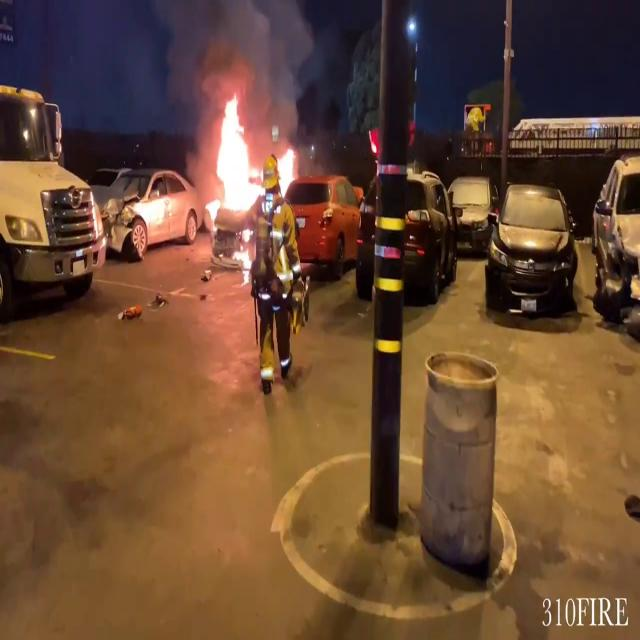Fire: (206, 90, 260, 222), (277, 143, 299, 199)
Smoke: (176, 0, 314, 111)
